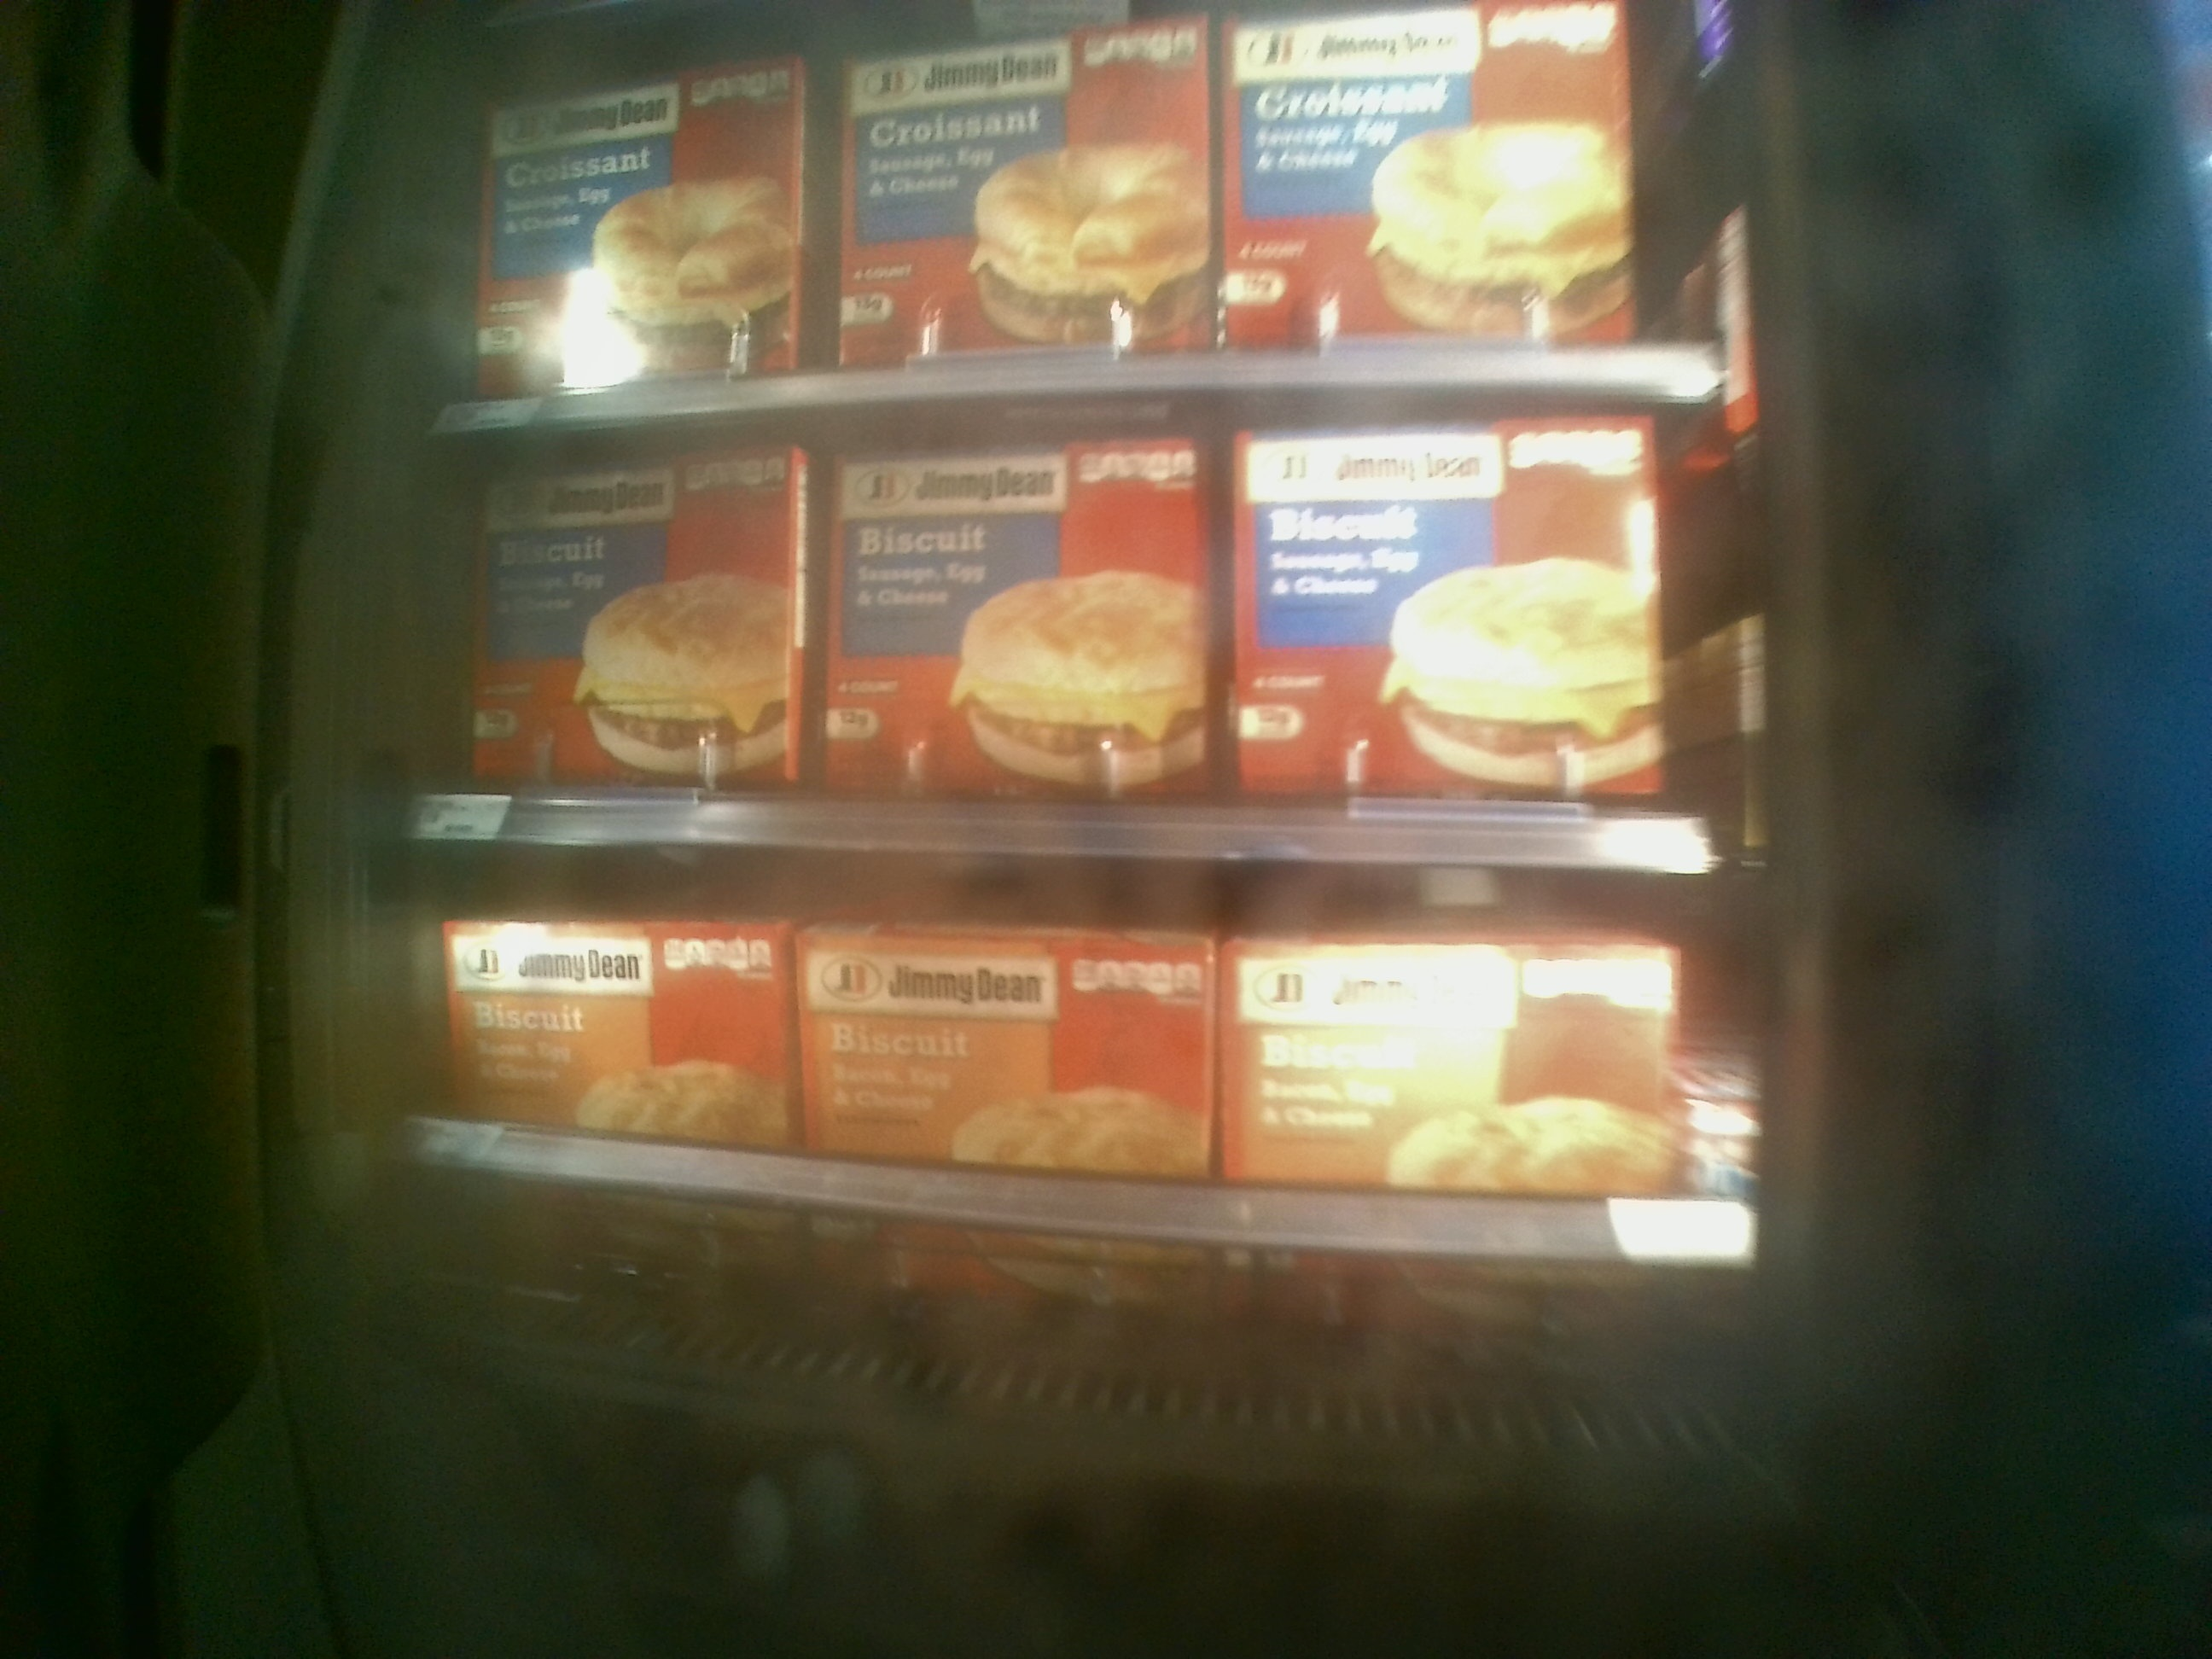shelf: (409, 847, 1740, 1445), (395, 390, 1743, 863)
